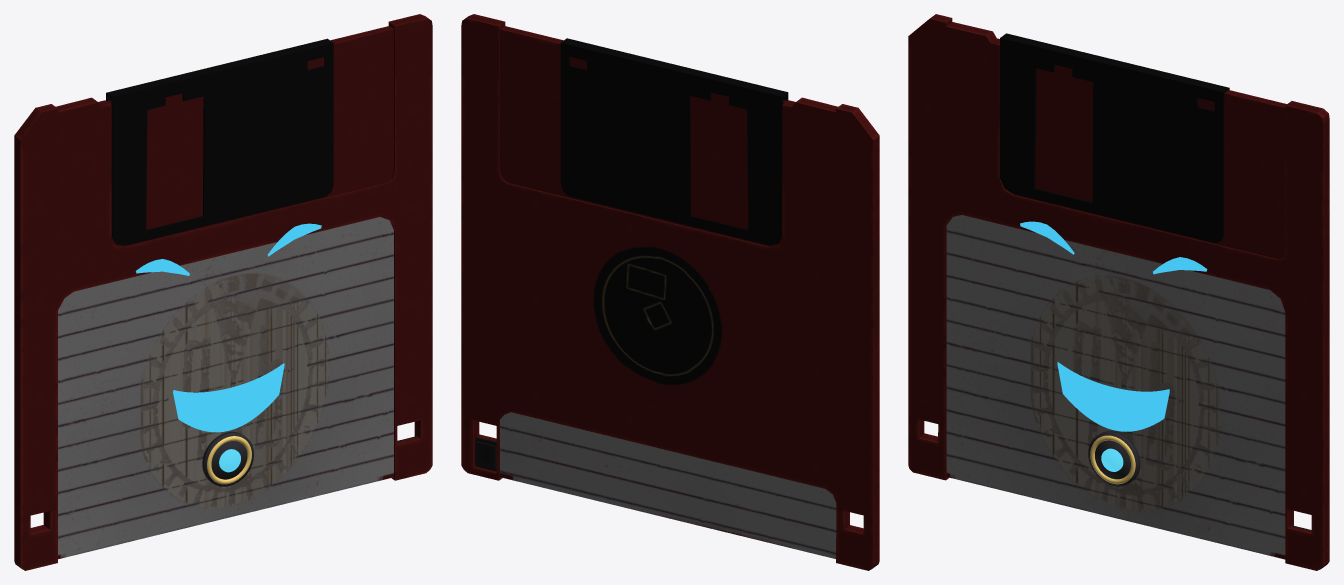
Rendered from floppy.glb.
The picture shows the model from 3 angles, left to right: view 1: azimuth 30°, elevation 25°; view 2: azimuth 150°, elevation 25°; view 3: azimuth 330°, elevation 25°; orthographic projection.
Parts seen in each view (by area): view 1: Floppy2, Floppy2Face; view 2: Floppy2; view 3: Floppy2, Floppy2Face.
Boxes of the visible parts, bbox=[...] form: Floppy2: bbox=[14, 14, 432, 570]; Floppy2Face: bbox=[136, 223, 321, 432]; Floppy2: bbox=[461, 14, 879, 570]; Floppy2: bbox=[908, 14, 1329, 570]; Floppy2Face: bbox=[1020, 221, 1207, 431].
Size of the model in its own units: 1.86 by 1.96 by 0.082.
5 materials, 1 textured.
